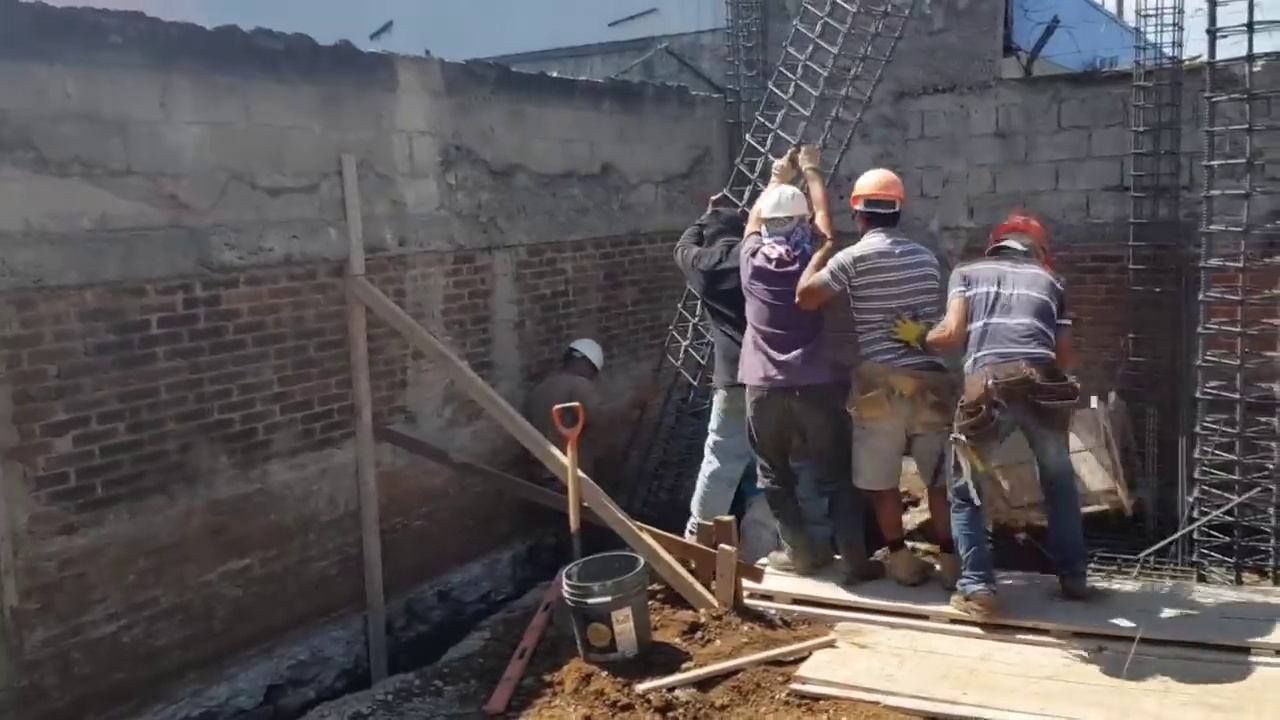helmet: (983, 207, 1055, 254), (850, 167, 905, 217), (759, 184, 809, 219), (568, 339, 605, 371)
helmet-off: (700, 199, 746, 253)
helmet-on: (983, 210, 1055, 267), (849, 167, 905, 240), (759, 185, 809, 252), (562, 339, 605, 382)
person: (892, 209, 1102, 625), (795, 166, 953, 582), (737, 143, 833, 581), (671, 199, 746, 552), (526, 339, 605, 517)
